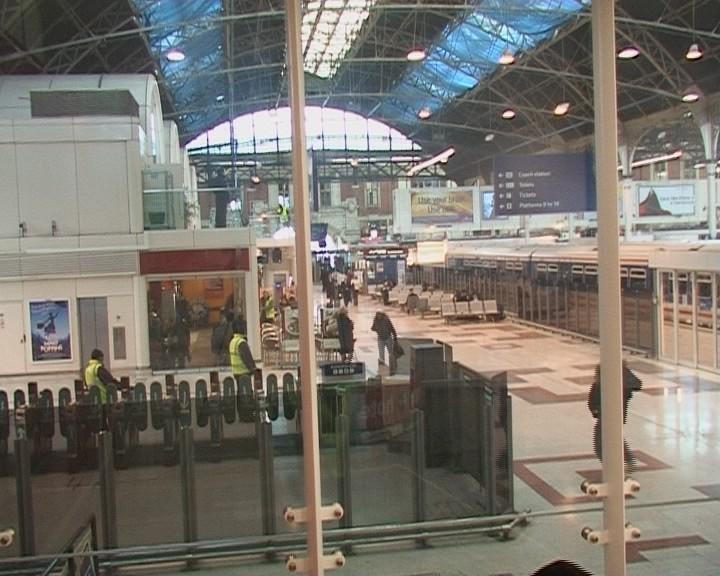person: (220, 315, 261, 375), (368, 308, 404, 376), (78, 348, 120, 388), (331, 305, 359, 363)
